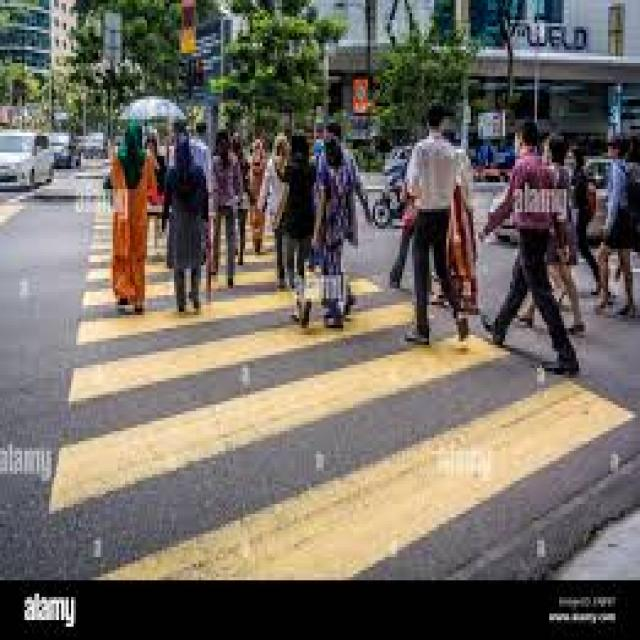Pedestrians: (483, 123, 567, 374), (402, 99, 471, 345), (105, 119, 162, 312), (164, 126, 208, 312)
